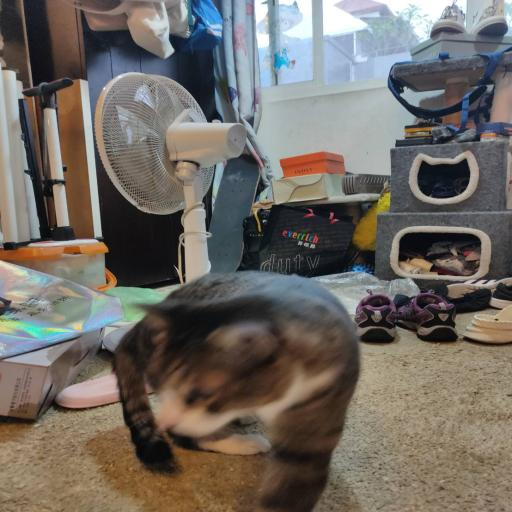cat: (118, 266, 358, 512)
